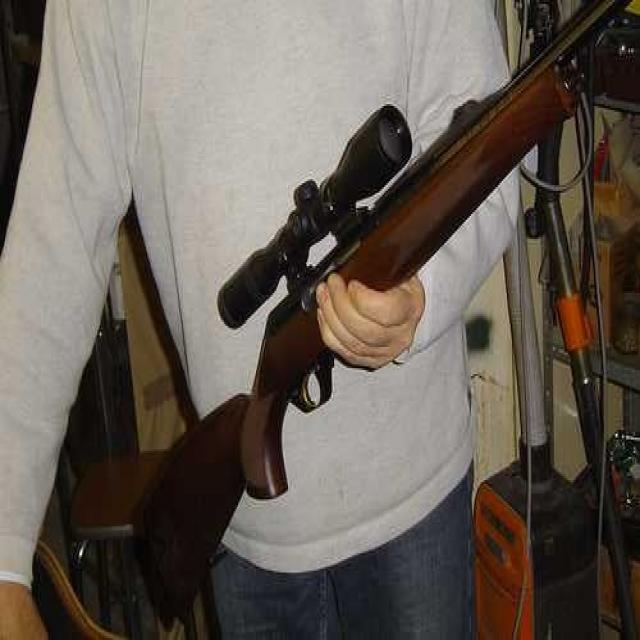weapon: (132, 8, 640, 628)
